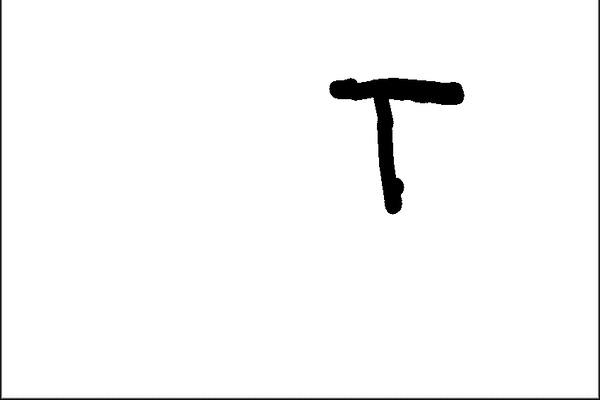T: (317, 66, 477, 218)
